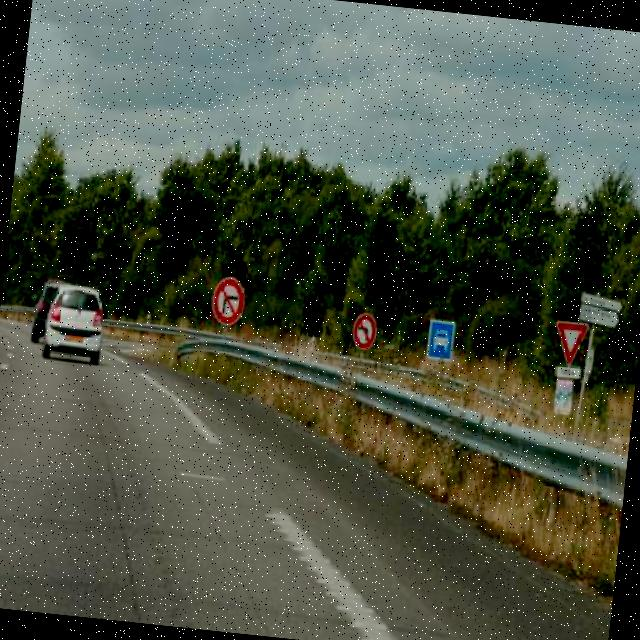Ustap pierwszenstwa: (550, 318, 592, 369)
